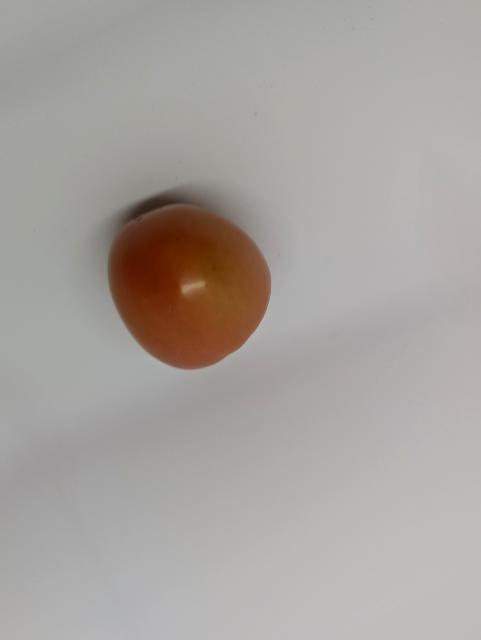turning: (100, 200, 280, 373)
